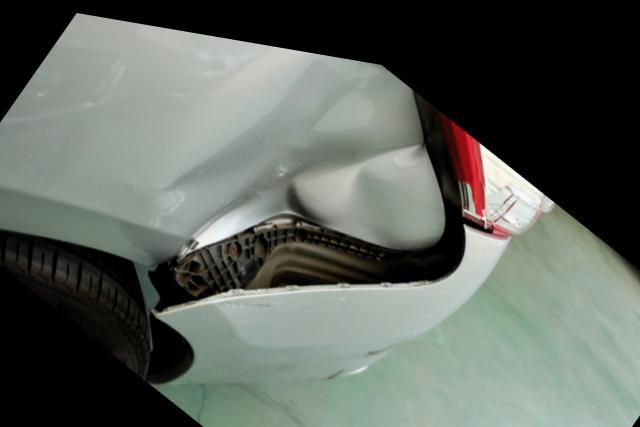dent: (130, 28, 440, 250)
dislocated part: (147, 205, 505, 384)
lamp broken: (442, 98, 554, 221)
